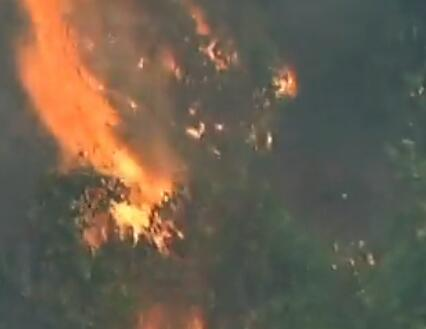fire: (9, 0, 190, 259), (142, 0, 300, 154)
